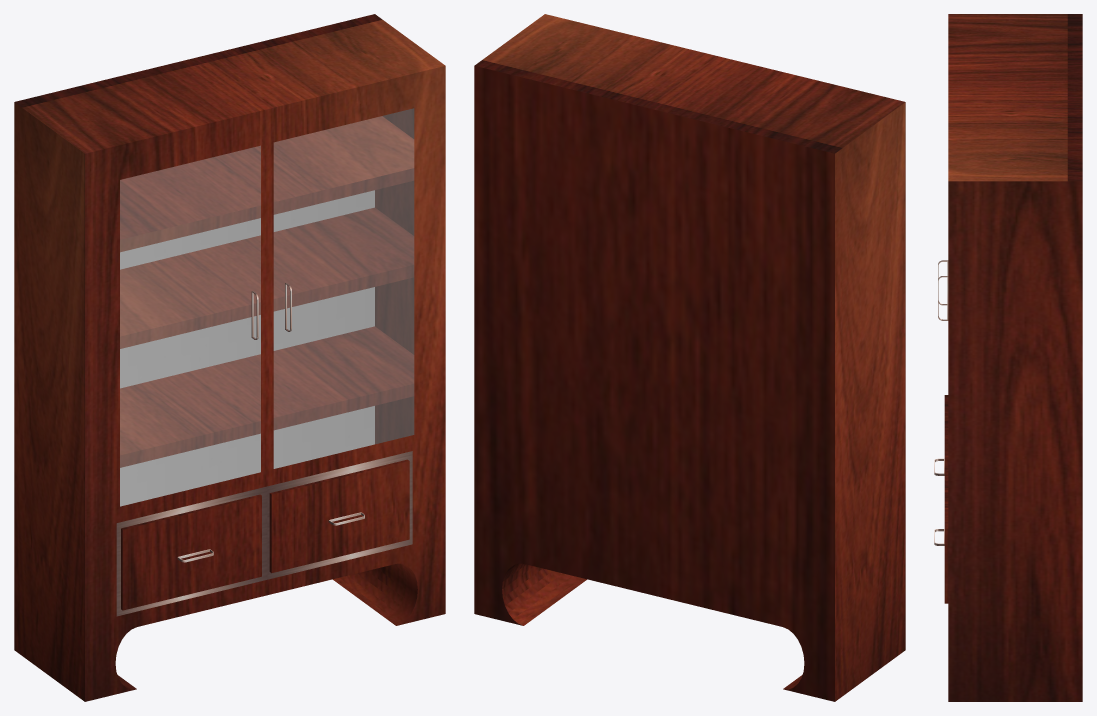
Rendered from dining9.glb.
The picture shows the model from 3 angles, left to right: view 1: azimuth 30°, elevation 25°; view 2: azimuth 150°, elevation 25°; view 3: azimuth 270°, elevation 25°; orthographic projection. The views are drawn at different scales.
Parts seen in each view (by area): view 1: Material3.001, Material2.001, Material3, Material2; view 2: Material3.001; view 3: Material3.001, Material2.
Part boxes in pixels (left/top/right/bottom): Material3.001: left=14, top=14, right=445, bottom=701; Material2.001: left=120, top=108, right=414, bottom=506; Material3: left=120, top=190, right=374, bottom=506; Material2: left=116, top=282, right=412, bottom=616; Material3.001: left=474, top=14, right=905, bottom=701; Material3.001: left=944, top=14, right=1082, bottom=701; Material2: left=934, top=260, right=948, bottom=545.
Size of the model in its own units: 0.6651 by 0.9661 by 0.2493.
Materials: 4 (3 with a texture image).
